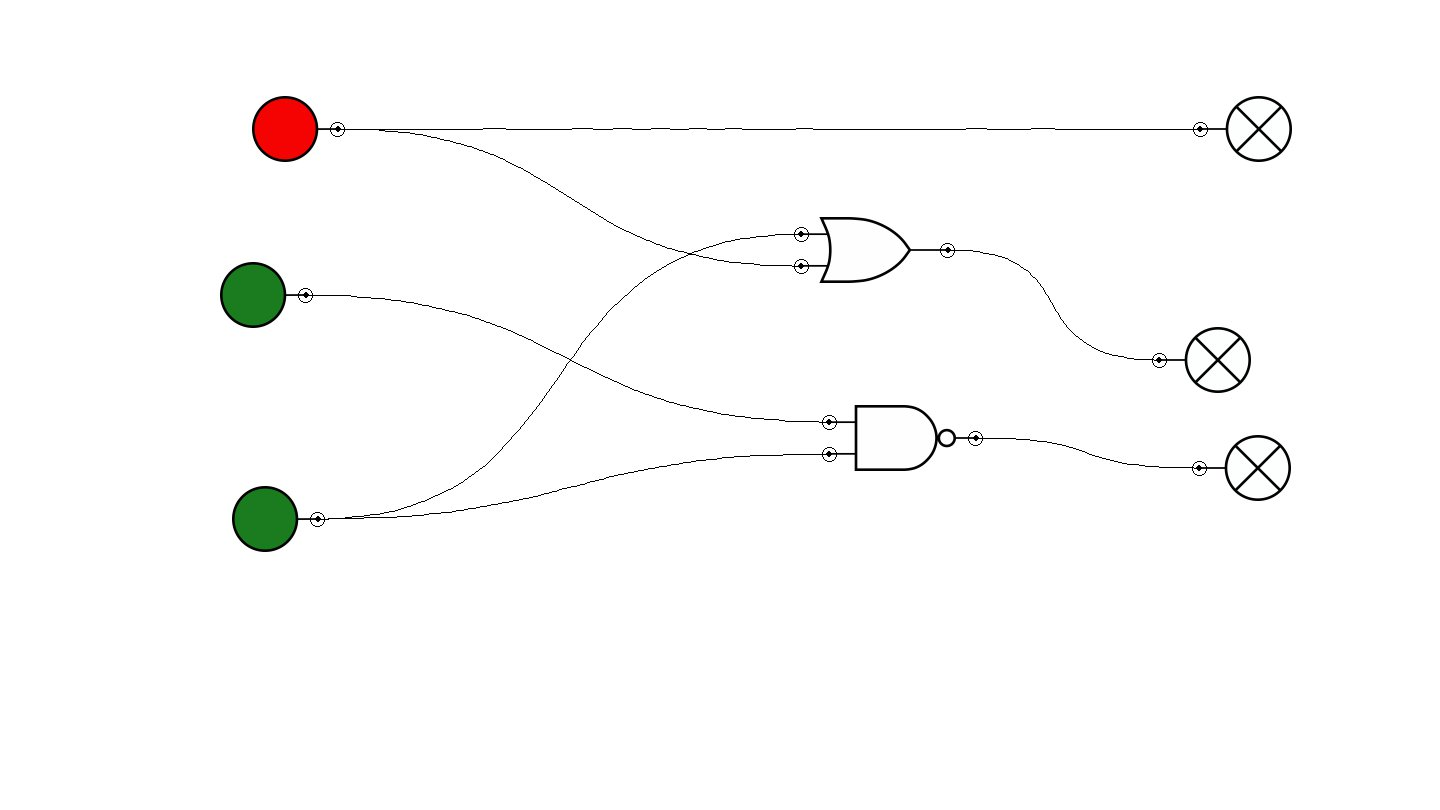bulb: (1192, 435, 1291, 501), (1152, 327, 1251, 393), (1193, 96, 1292, 162)
nand: (822, 405, 983, 471)
or: (794, 217, 955, 283)
switch_False: (252, 96, 345, 162)
switch_True: (232, 486, 325, 552), (220, 262, 313, 328)
